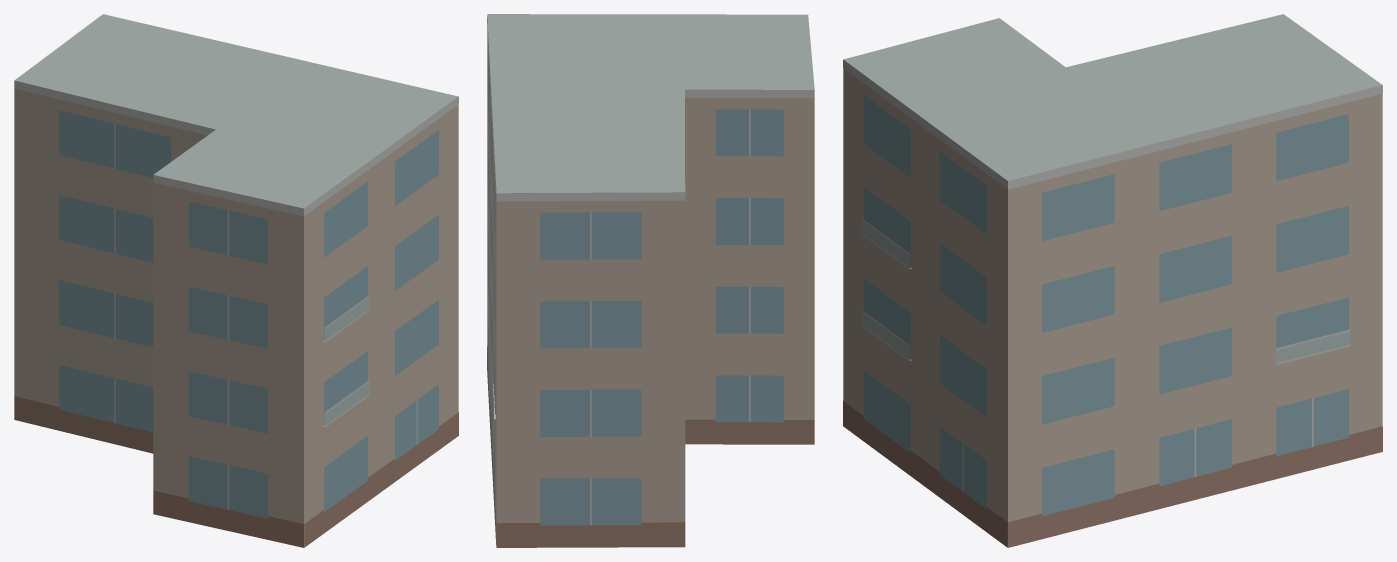
Rendered from survey-upis-32526513.glb.
3 views of the same model, side by side, from view 1: azimuth 30°, elevation 25°; view 2: azimuth 150°, elevation 25°; view 3: azimuth 270°, elevation 25° (orthographic). The views are drawn at different scales.
Parts seen in each view (by area): view 1: survey-upis-32526513.tmp; view 2: survey-upis-32526513.tmp; view 3: survey-upis-32526513.tmp.
Boxes of the visible parts, left/top/right/bottom form: survey-upis-32526513.tmp: left=14, top=14, right=458, bottom=547; survey-upis-32526513.tmp: left=487, top=14, right=814, bottom=547; survey-upis-32526513.tmp: left=843, top=14, right=1382, bottom=547.
Size of the model in its own units: 10.27 by 10.5 by 14.01.
